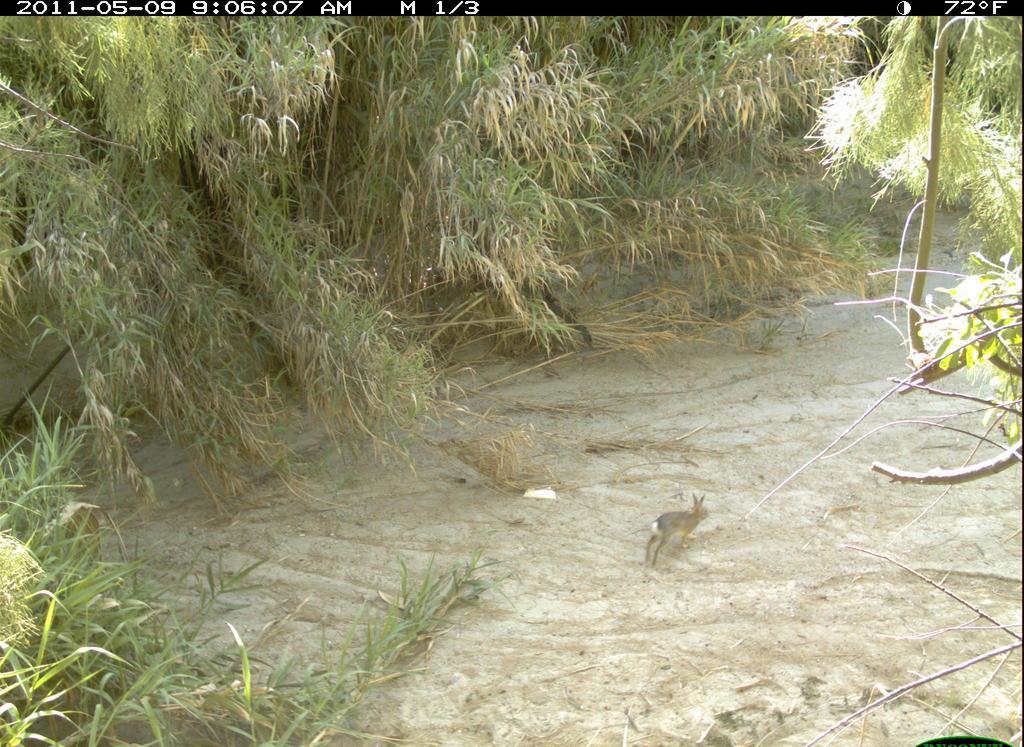rabbit: (629, 482, 720, 576)
